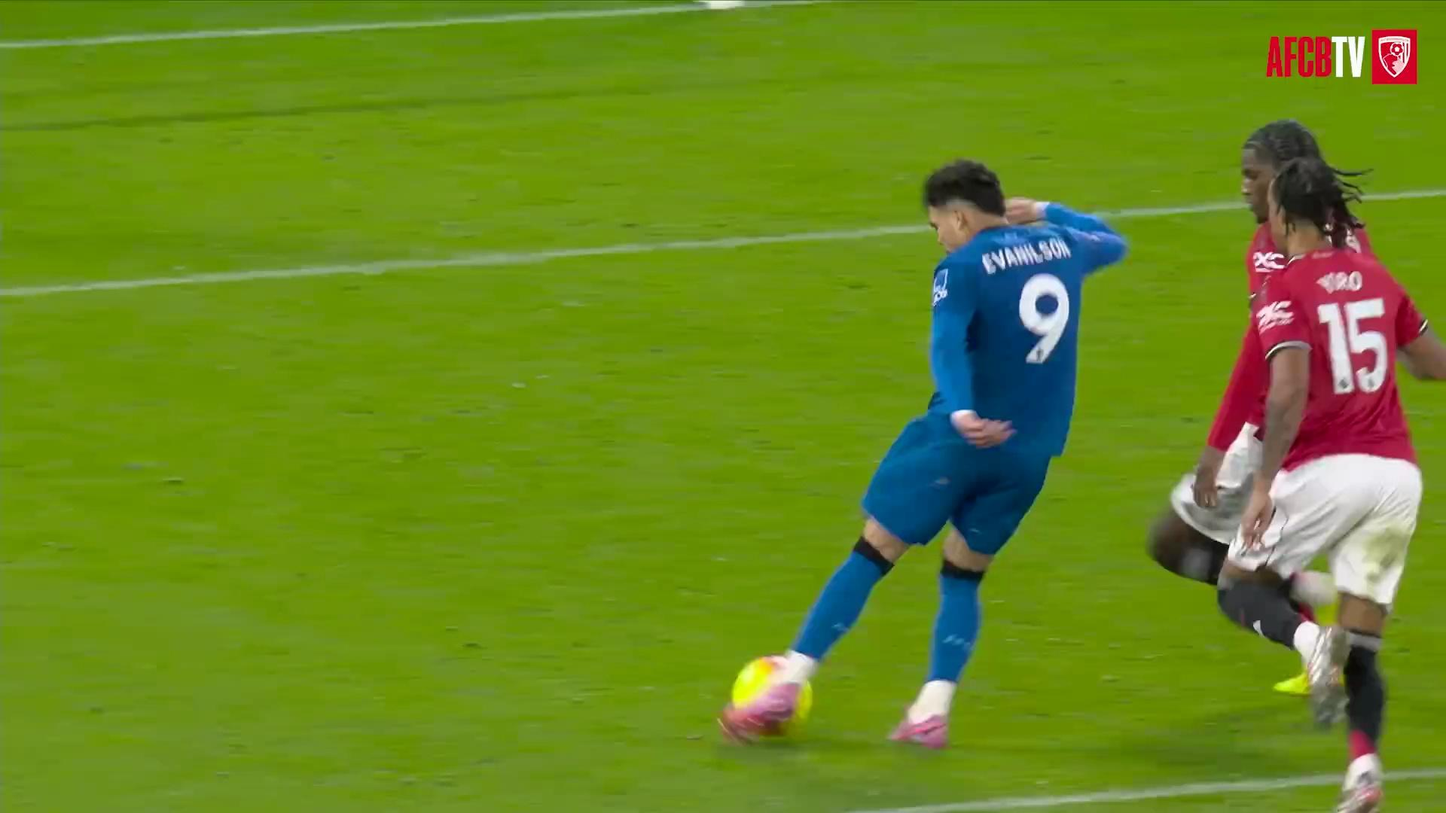football: (715, 642, 836, 758)
player: (719, 160, 1126, 747), (1218, 158, 1445, 812), (1241, 120, 1321, 298)
